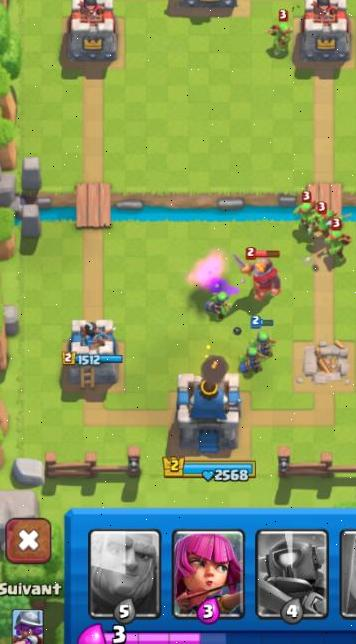enemy_knight: (236, 246, 287, 301)
enemy_spear_goblins: (265, 13, 297, 52), (320, 223, 354, 257), (301, 204, 334, 234), (291, 193, 321, 222)
player_spear_goblins: (202, 286, 236, 320), (249, 318, 280, 355), (237, 345, 265, 376)
